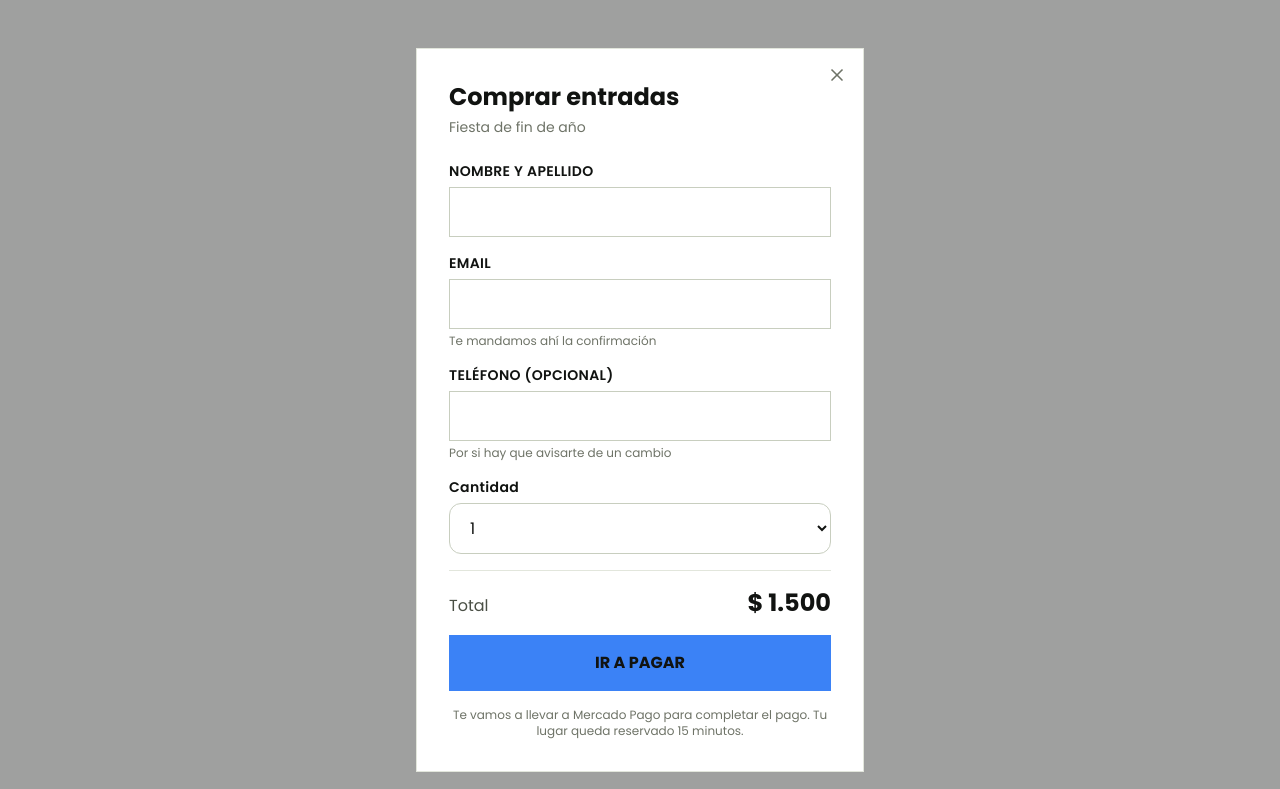
Test case: ComprarEntradas › cuando algo sale mal › una caída de red se explica en castellano
The image size is (1280, 789).
In the field labelled "NOMBRE Y APELLIDO": [640, 212] box [449, 187, 831, 237], type "Ana Gómez"
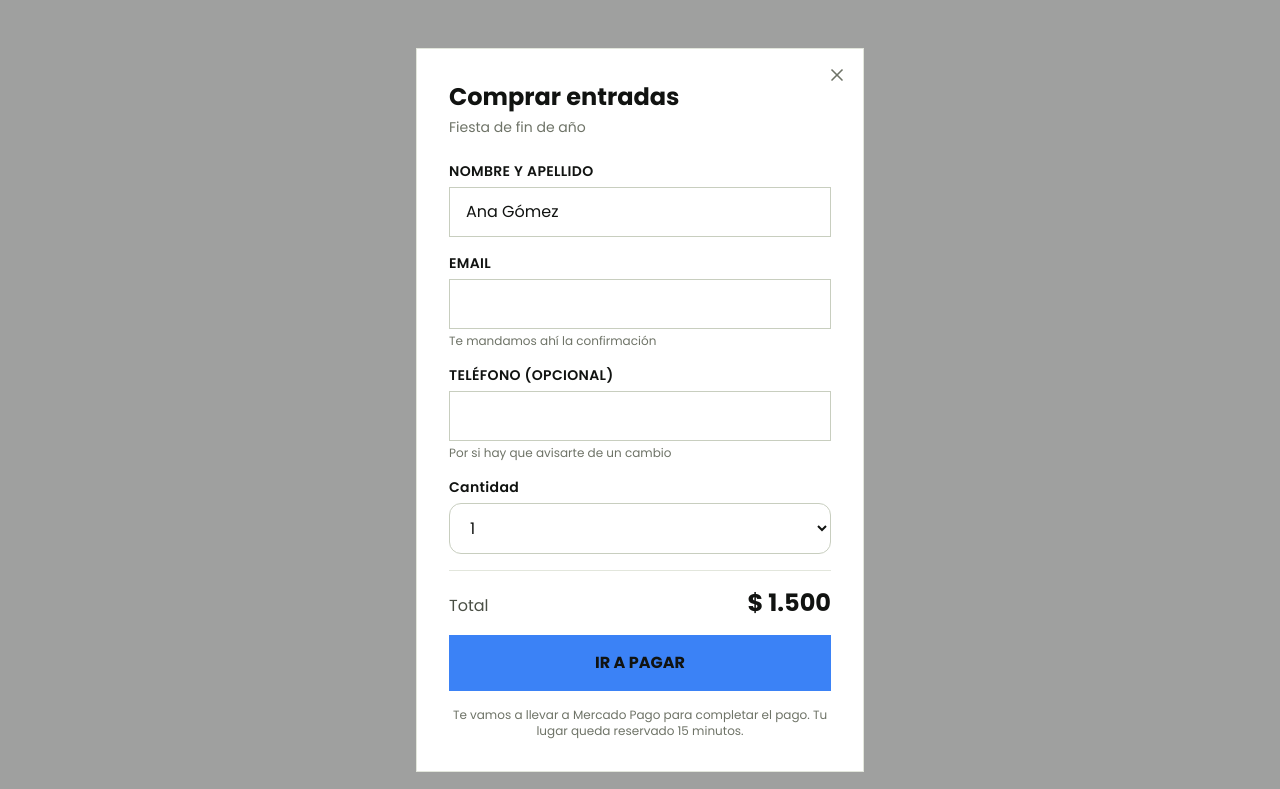
In the field labelled "EMAIL": [640, 304] box [449, 279, 831, 329], type "ana@example.com"
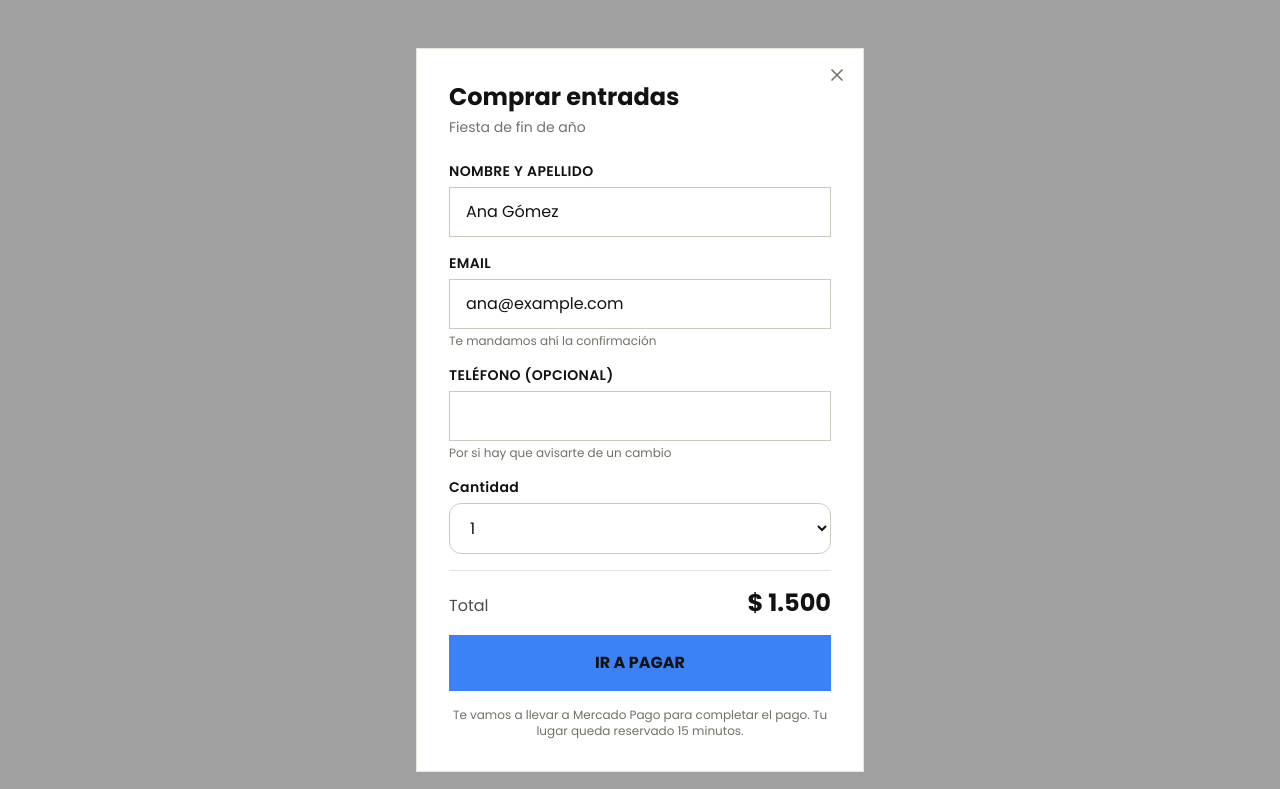
In the field labelled "TELÉFONO (OPCIONAL)": [640, 416] box [449, 391, 831, 441], type "1122334455"
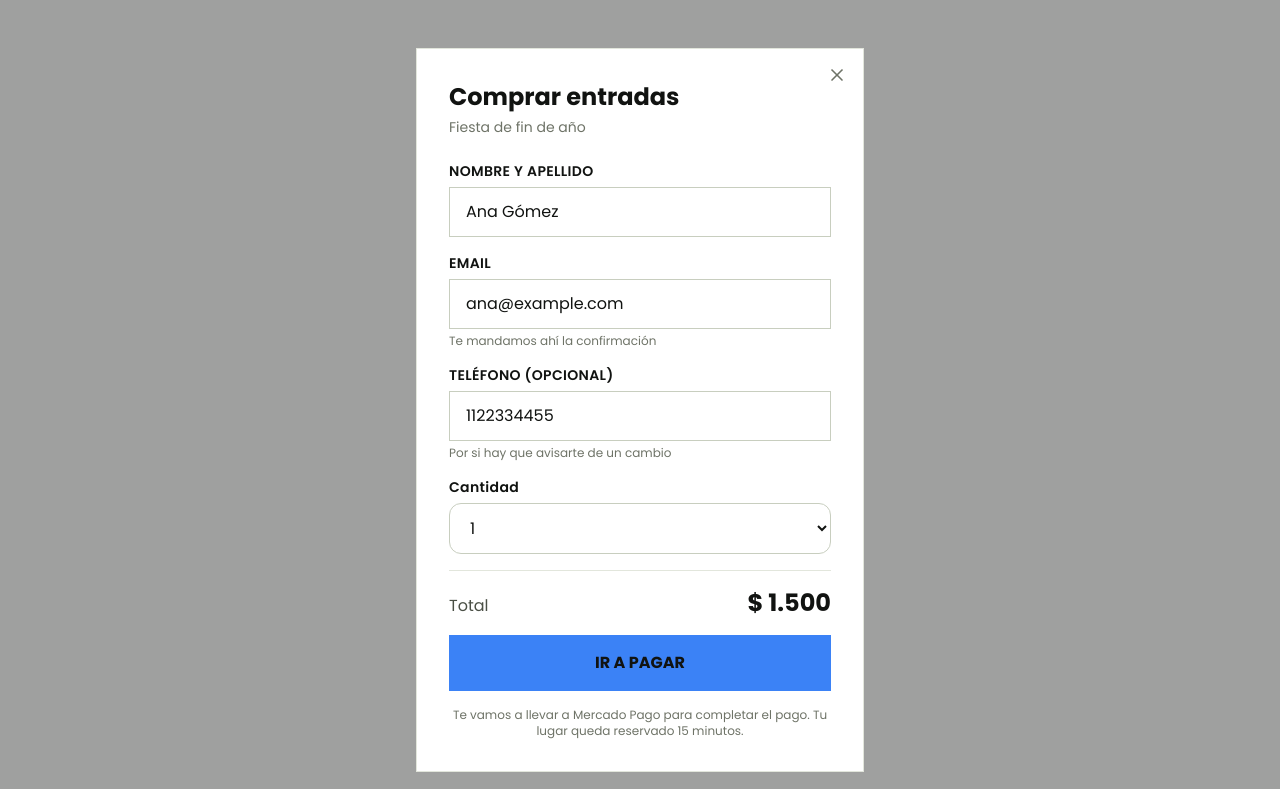
Click the button "IR A PAGAR": [640, 663] box [449, 635, 831, 691]
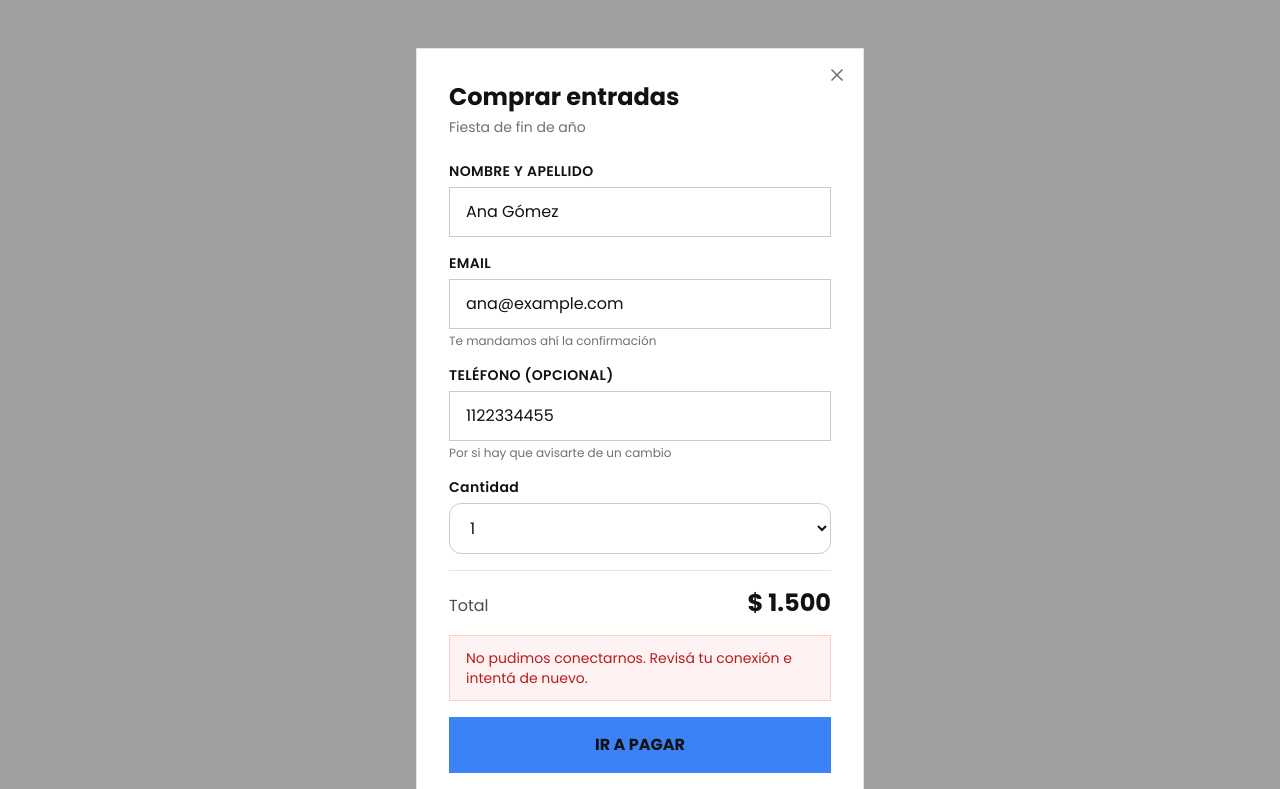
Expected: the text "No pudimos conectarnos" is shown, [466, 648, 792, 688]
